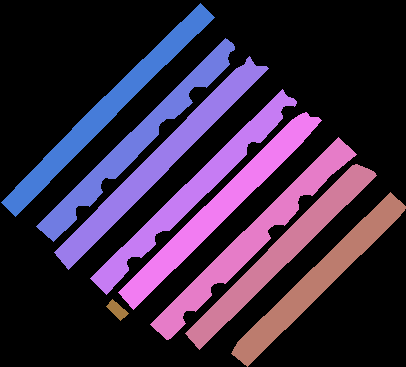parkingspot: (54, 56, 268, 269), (1, 3, 214, 216), (90, 89, 296, 294), (150, 137, 356, 339), (36, 38, 234, 241), (118, 112, 321, 309), (185, 164, 376, 349), (231, 192, 406, 366), (106, 299, 128, 320)
